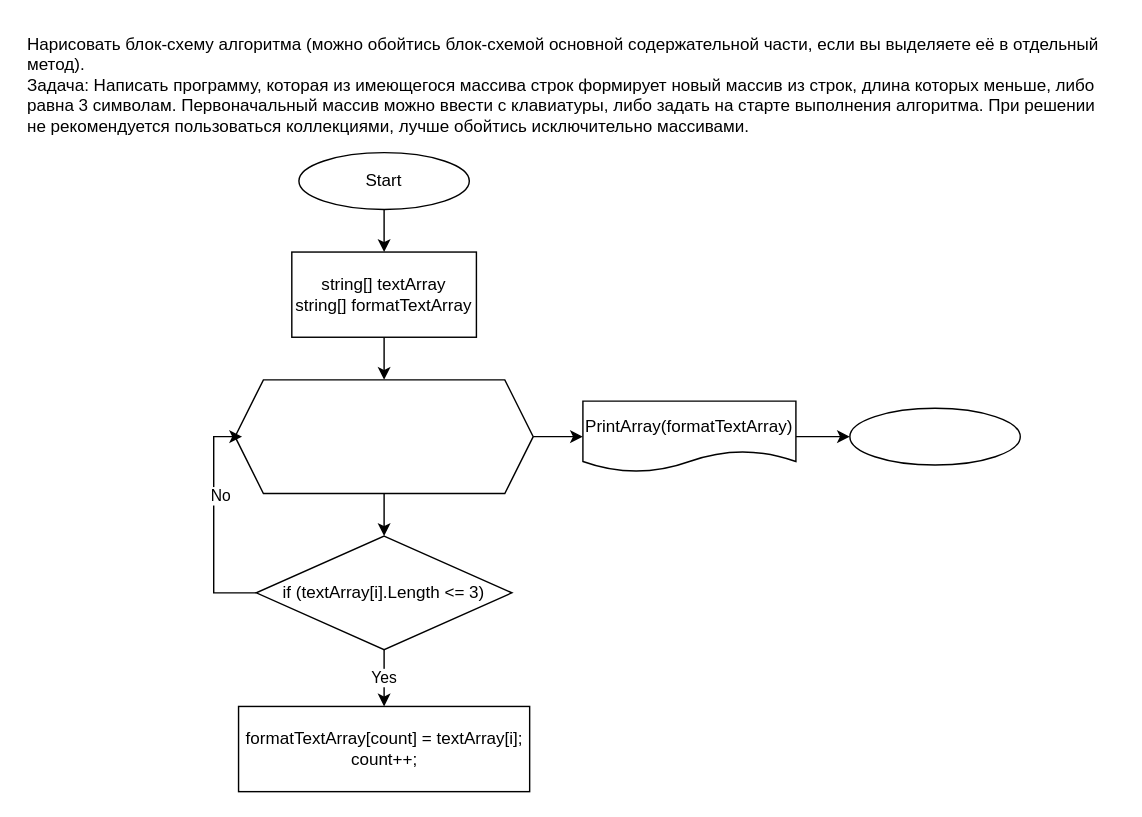
The diagram is 1142 pixels wide and 817 high, and some of its shapes have lost their labels. Here are the shapes that lost their labels. From the top down, the centre of each, then its label:
point (383, 435): for (int i = 0; i < textArray.Length; i++
point (934, 436): Finish
